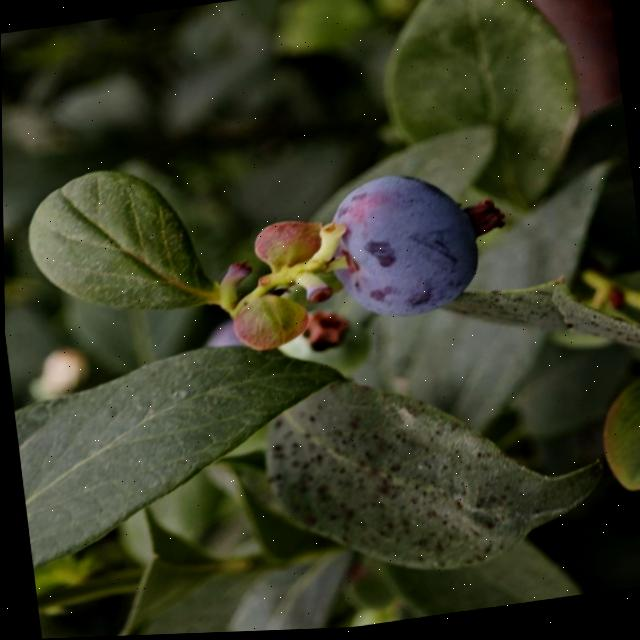RipeBlueBerry: (300, 145, 515, 327)
